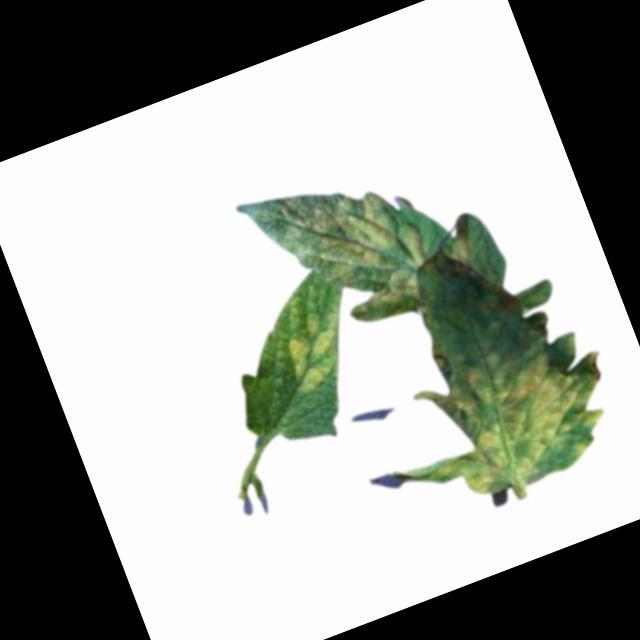Leaf_Mold: (408, 318, 634, 510), (277, 170, 429, 305), (276, 305, 361, 396), (344, 263, 424, 324), (447, 232, 476, 265)
